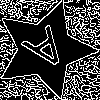A: (20, 24, 77, 82)
